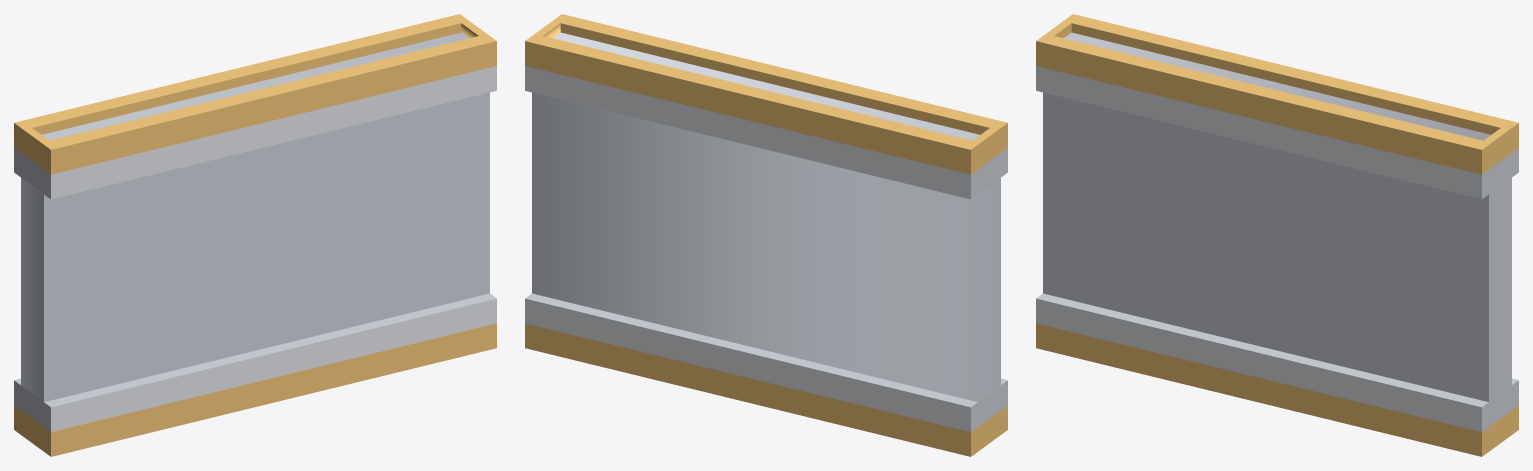
The model's file is Door (1).fbx.
3 views of the same model, side by side, from view 1: azimuth 30°, elevation 25°; view 2: azimuth 150°, elevation 25°; view 3: azimuth 330°, elevation 25° (orthographic).
Parts seen in each view (by area): view 1: platform_straight.004; view 2: platform_straight.004; view 3: platform_straight.004.
Boxes of the visible parts, bbox=[...] form: platform_straight.004: bbox=[14, 14, 496, 456]; platform_straight.004: bbox=[525, 14, 1007, 456]; platform_straight.004: bbox=[1036, 14, 1518, 456].
Bounding box in the file's own units: 143 × 93.86 × 20.54.
